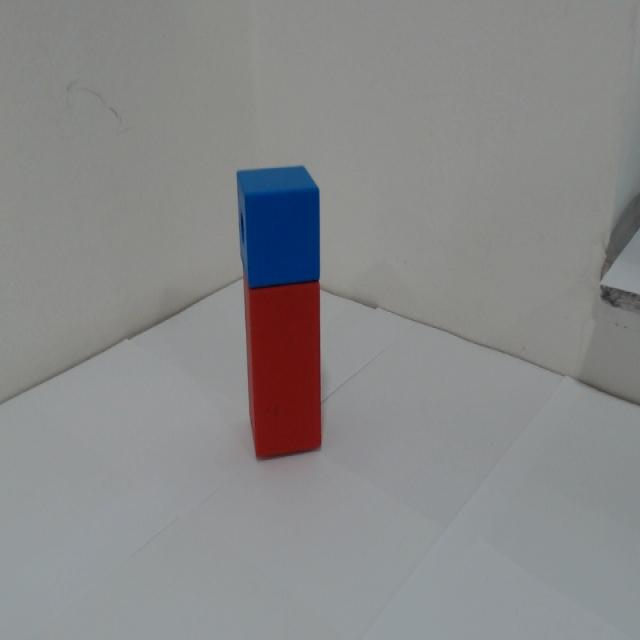cube: (220, 117, 343, 275)
